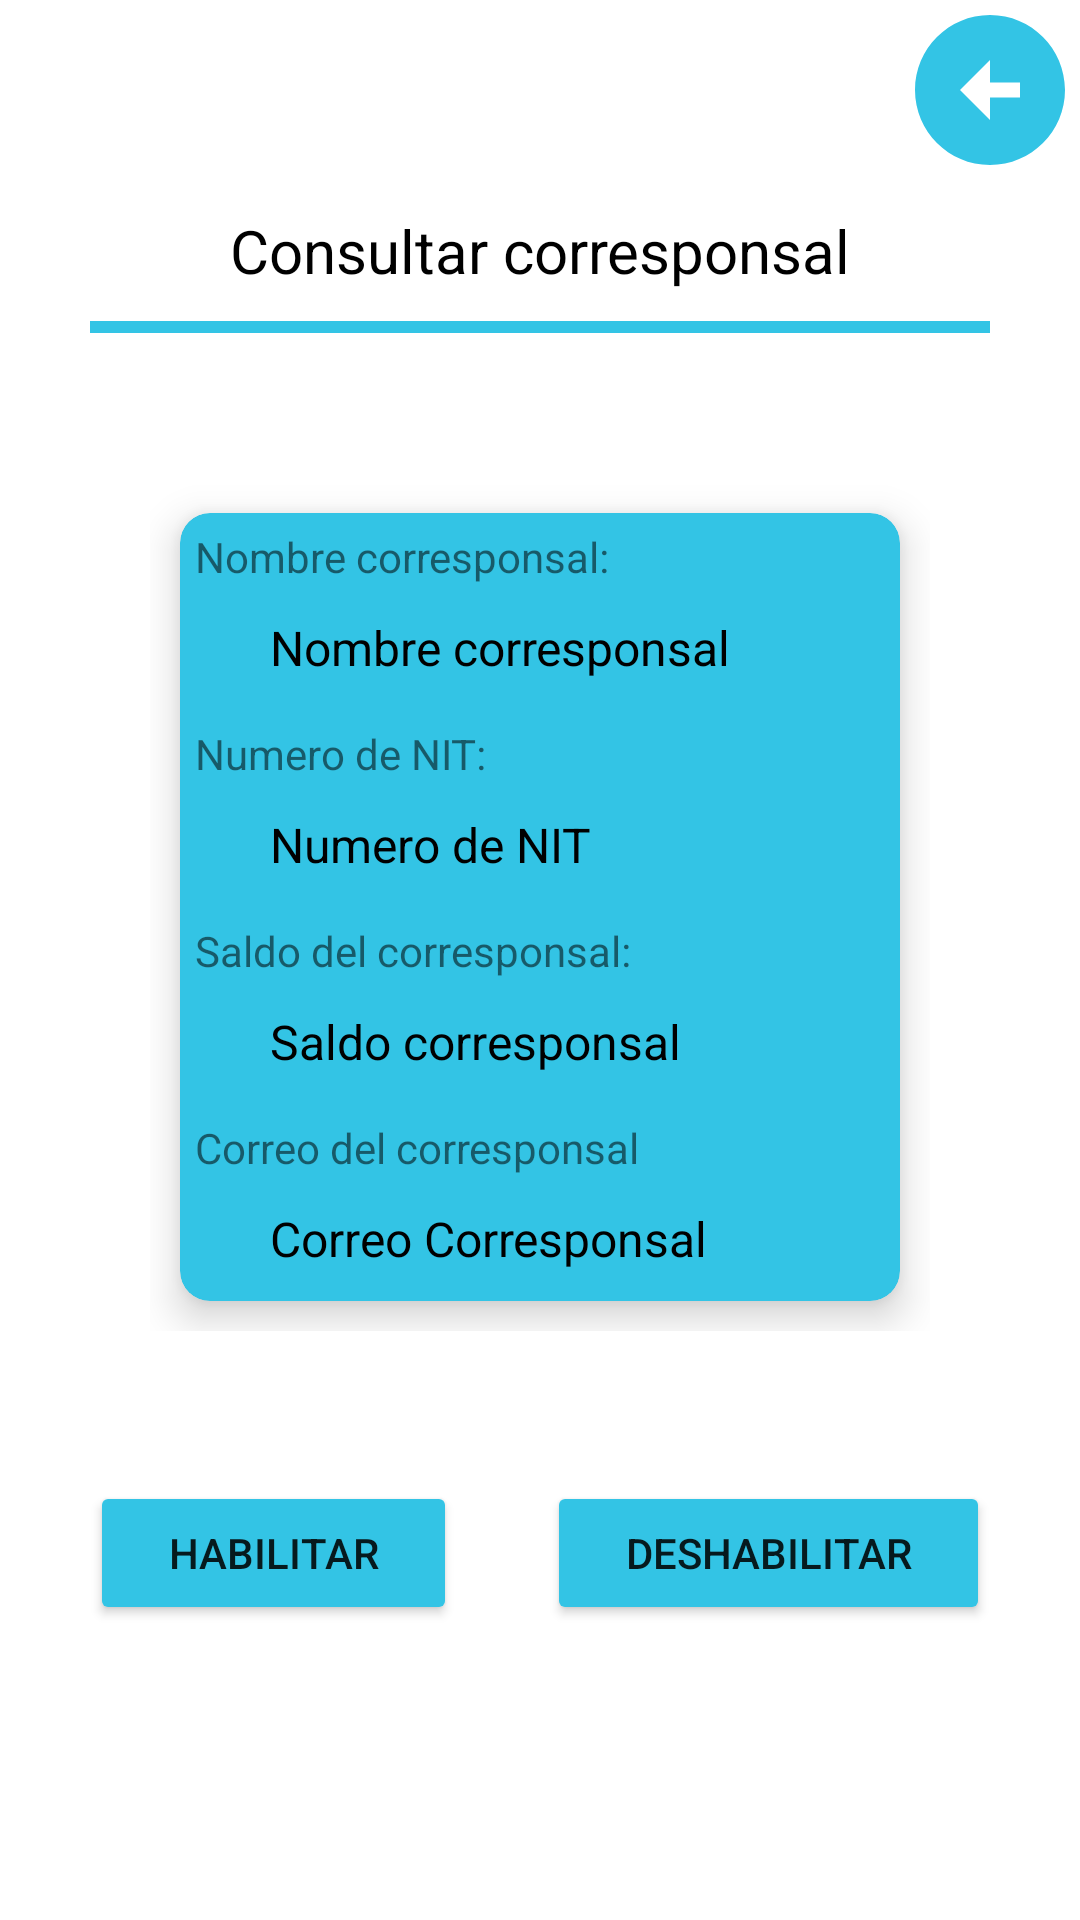

Screen size 1080w x 1920h. Icon name, then its center in pixels as [x,y]:
arrow circle left: [990,90]
